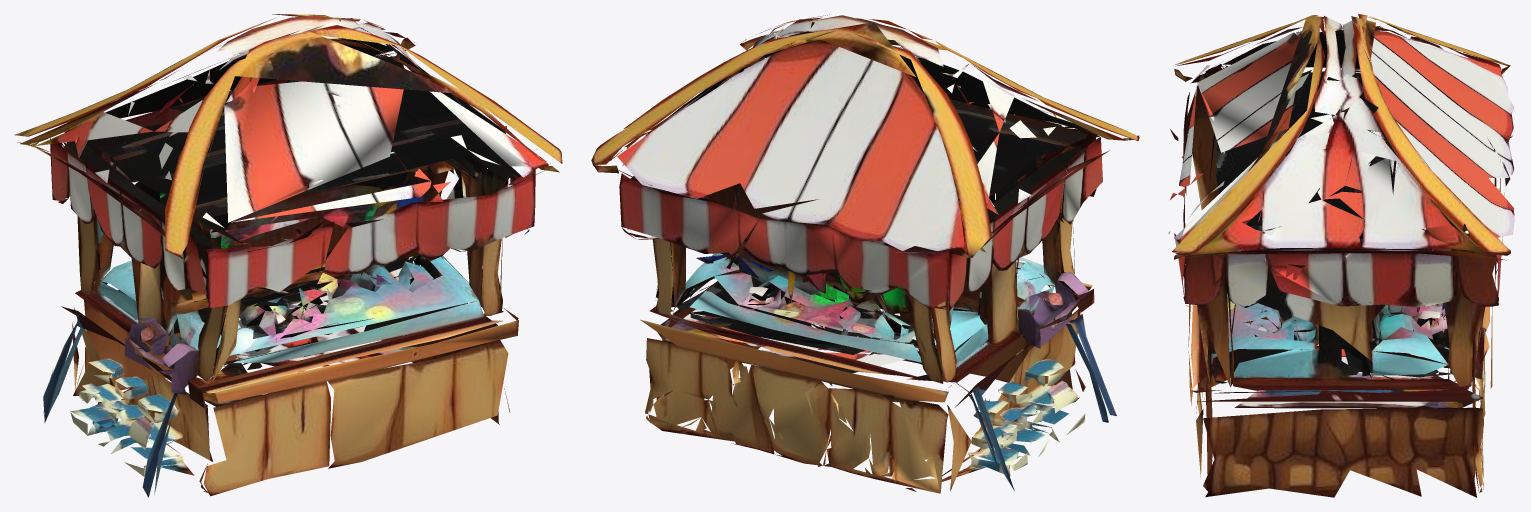
The model's file is pazar_tezgahi.glb.
The picture shows the model from 3 angles, left to right: view 1: azimuth 30°, elevation 25°; view 2: azimuth 150°, elevation 25°; view 3: azimuth 270°, elevation 25°; orthographic projection.
Visible parts, largest first — view 1: geometry_0; view 2: geometry_0; view 3: geometry_0.
Boxes of the visible parts, x1,y1,x2,y2 form: geometry_0: [15, 14, 562, 497]; geometry_0: [591, 14, 1139, 493]; geometry_0: [1168, 14, 1514, 497].
Bounding box in the file's own units: 0.9706 × 0.9351 × 0.7316.
Materials: 1 (1 with a texture image).
